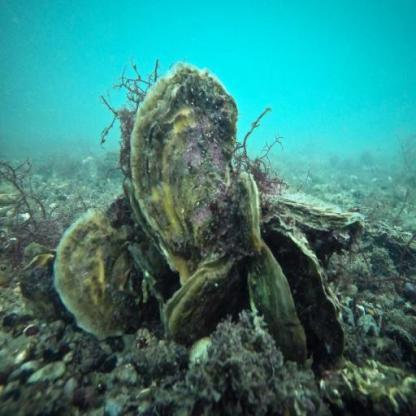Oyster- Indeterminate: (131, 65, 245, 281), (167, 252, 245, 345), (264, 187, 365, 232), (232, 169, 265, 257)
Oyster-Closed: (57, 209, 155, 341)
Oyster-Open: (248, 216, 344, 367)
